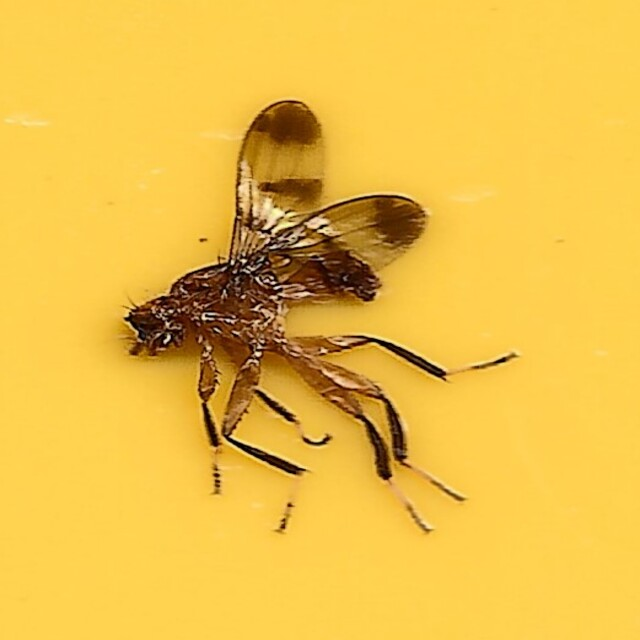Brachycera: (123, 102, 517, 538)
